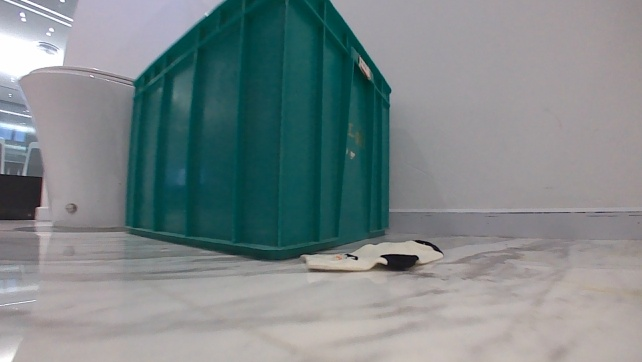socks: (298, 236, 444, 274)
toilet: (16, 63, 136, 231)
